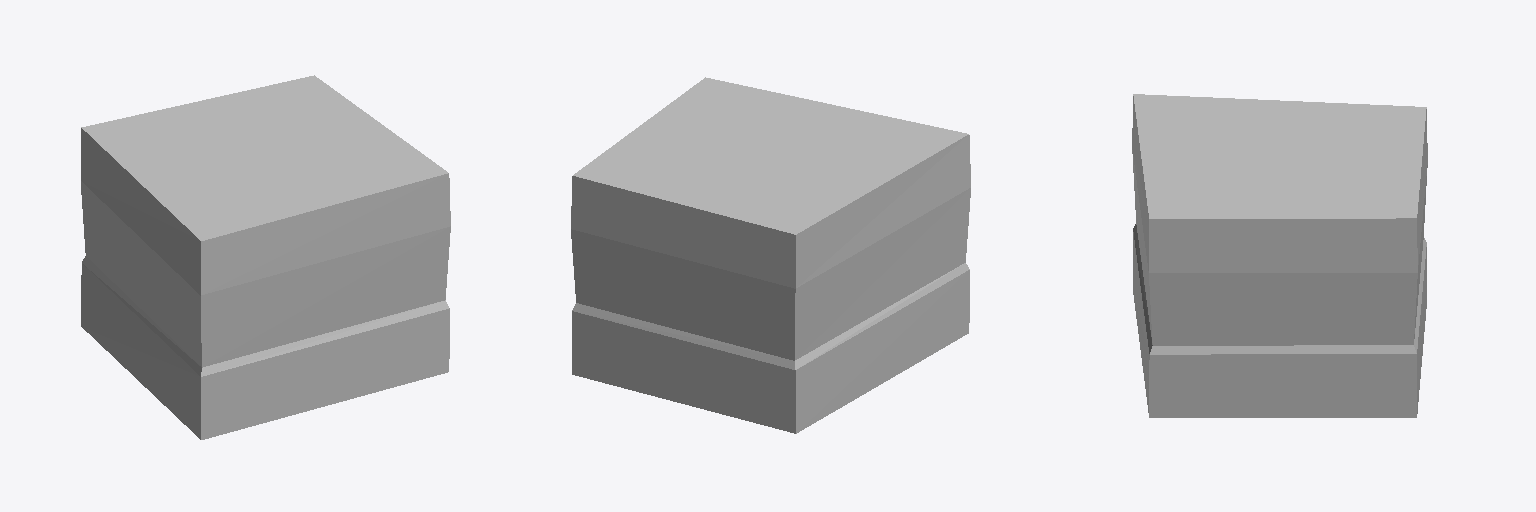
Rendered from corner3Fat.obj.
3 views of the same model, side by side, from view 1: azimuth 30°, elevation 25°; view 2: azimuth 150°, elevation 25°; view 3: azimuth 270°, elevation 25° (orthographic).
Bounding box in the file's own units: 1.37 × 1 × 1.35.